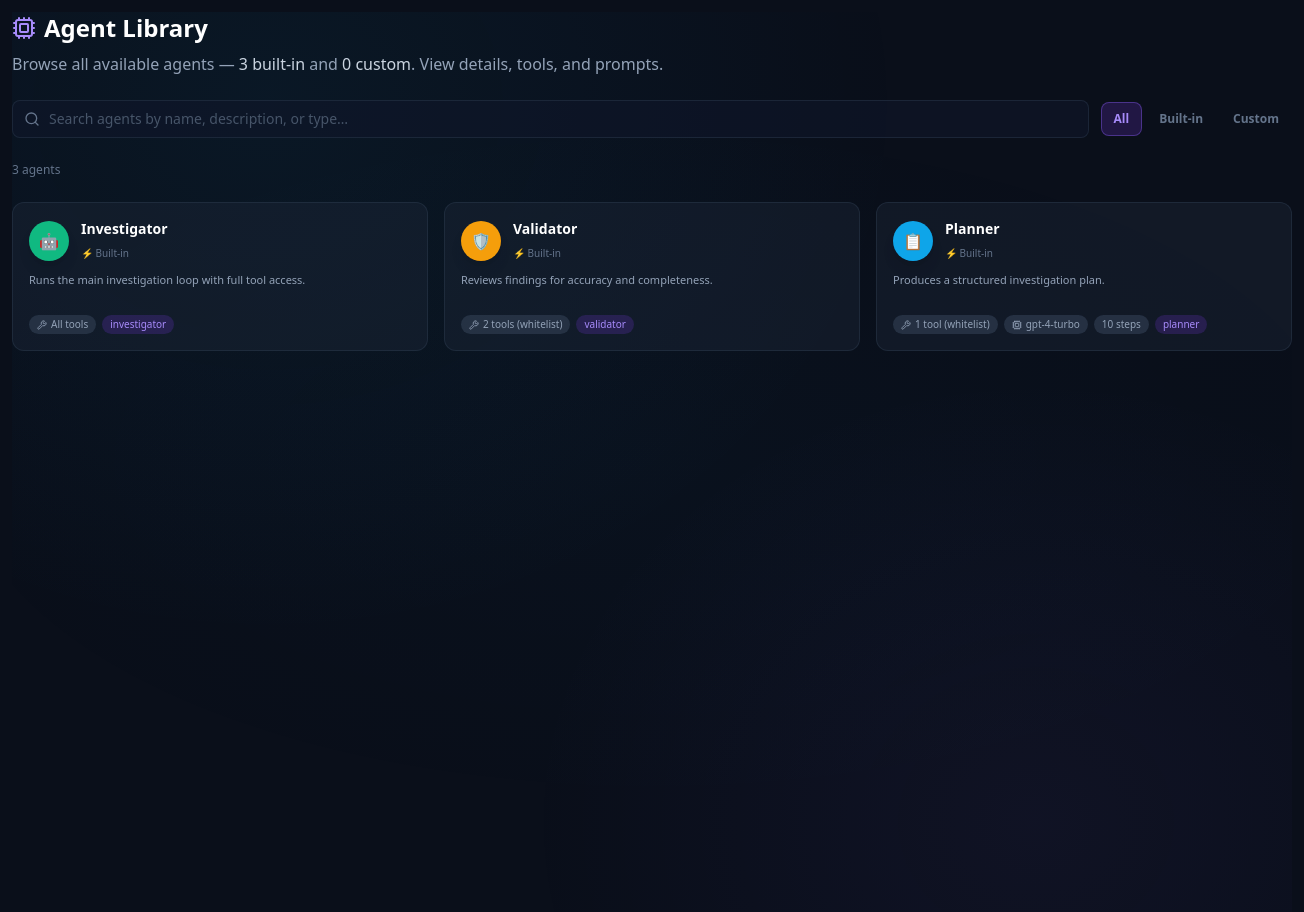
Test: AgentLibrary › filters agents by description text
The image size is (1304, 912).
Type "accuracy" into the field with placeholder "Search agents by name, description, or type…" at [550, 119], box [12,100,1089,138]
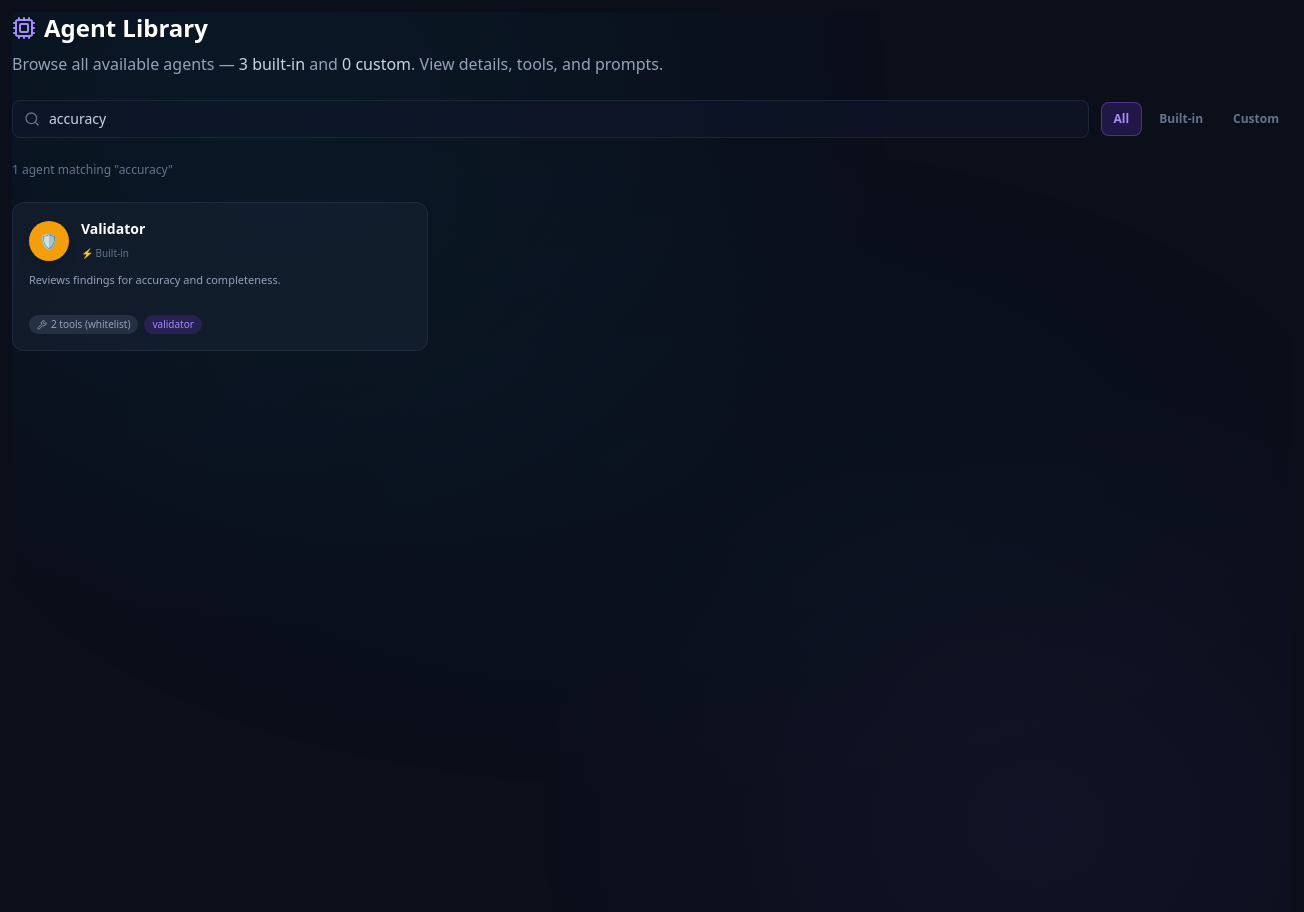
Check: the heading "Validator" is shown, box [81,219,145,238]
Check: the heading "Investigator" is gone
